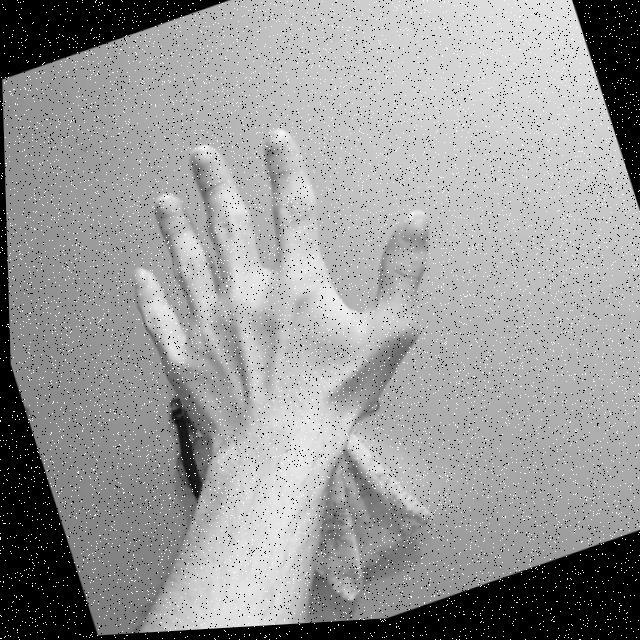no-gloves: (88, 79, 476, 474)
